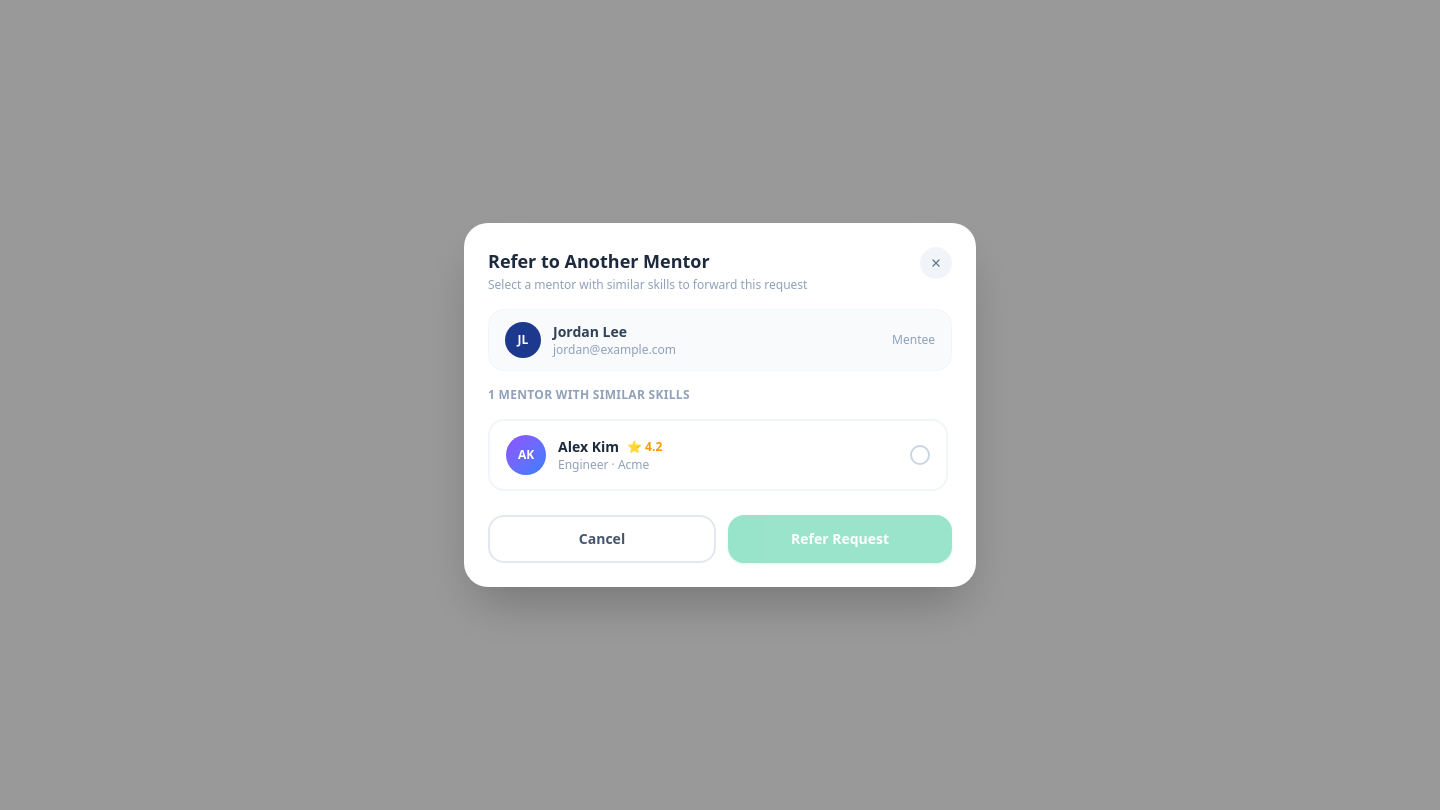
Test: ReferModal Component Suite › should disable the Refer Request button until a mentor is selected
Check: the button "Refer Request" is disabled, box x1=728 y1=515 x2=952 y2=563
Click the text "Alex Kim". click: point(588, 447)
box: x1=558 y1=437 x2=619 y2=457
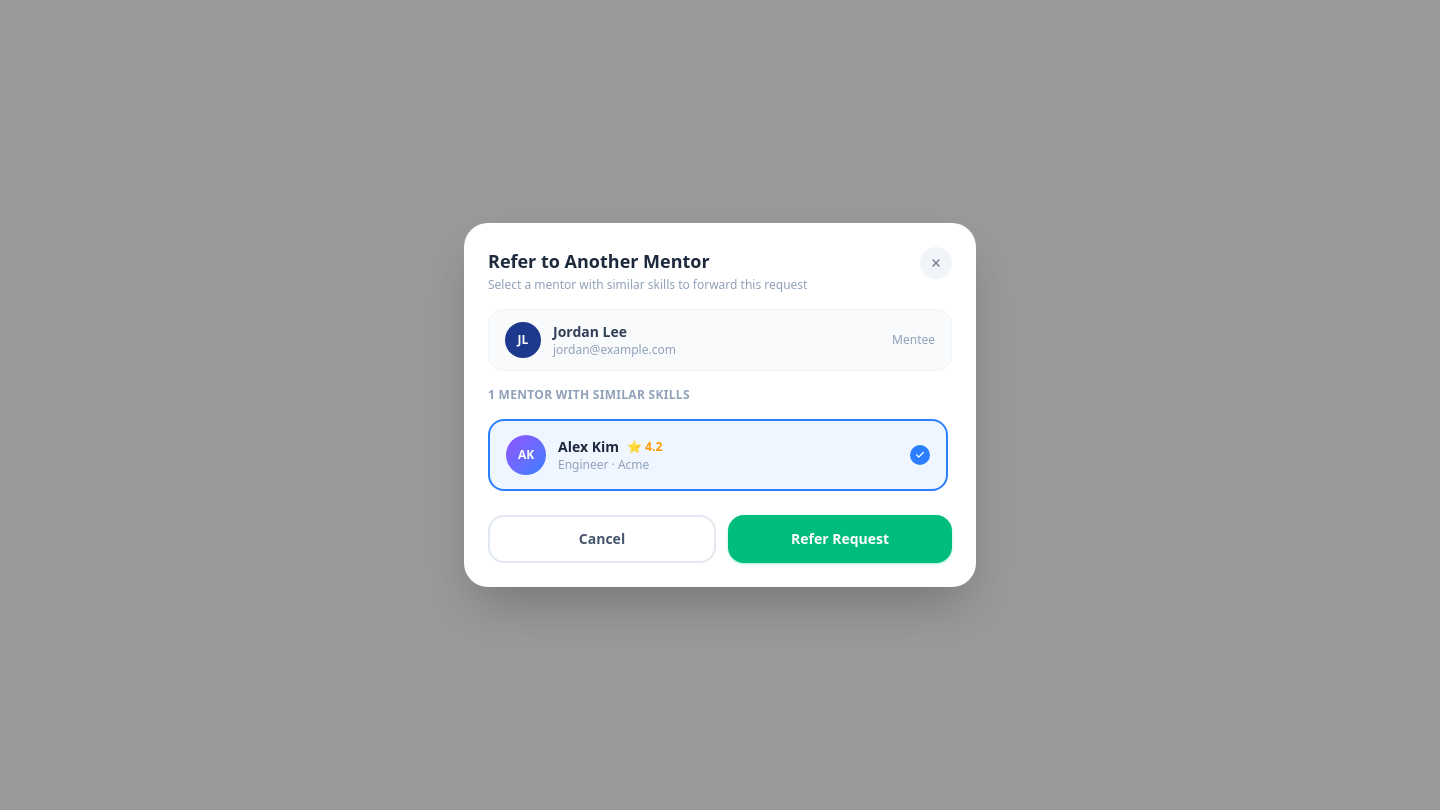
Check: the button "Refer Request" is enabled, box x1=728 y1=515 x2=952 y2=563
